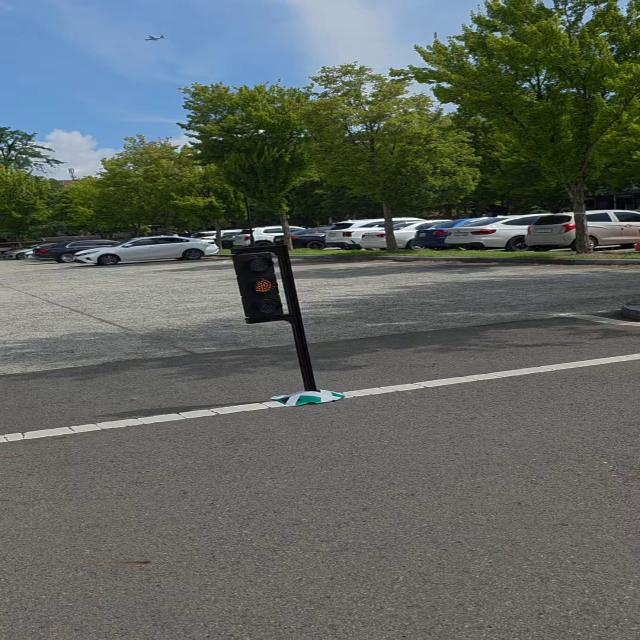yellow: (230, 251, 293, 324)
